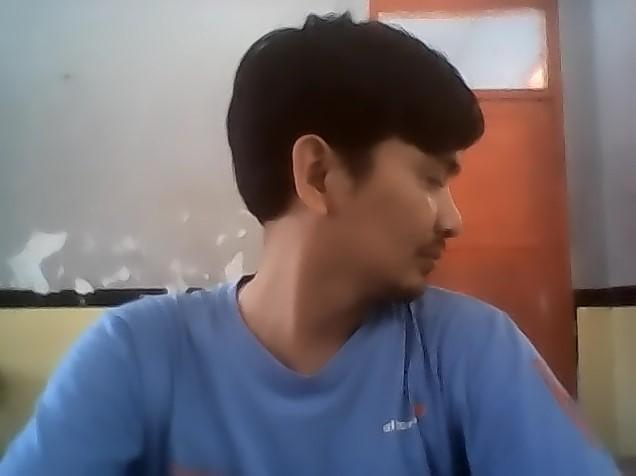cheating: (5, 7, 636, 476)
